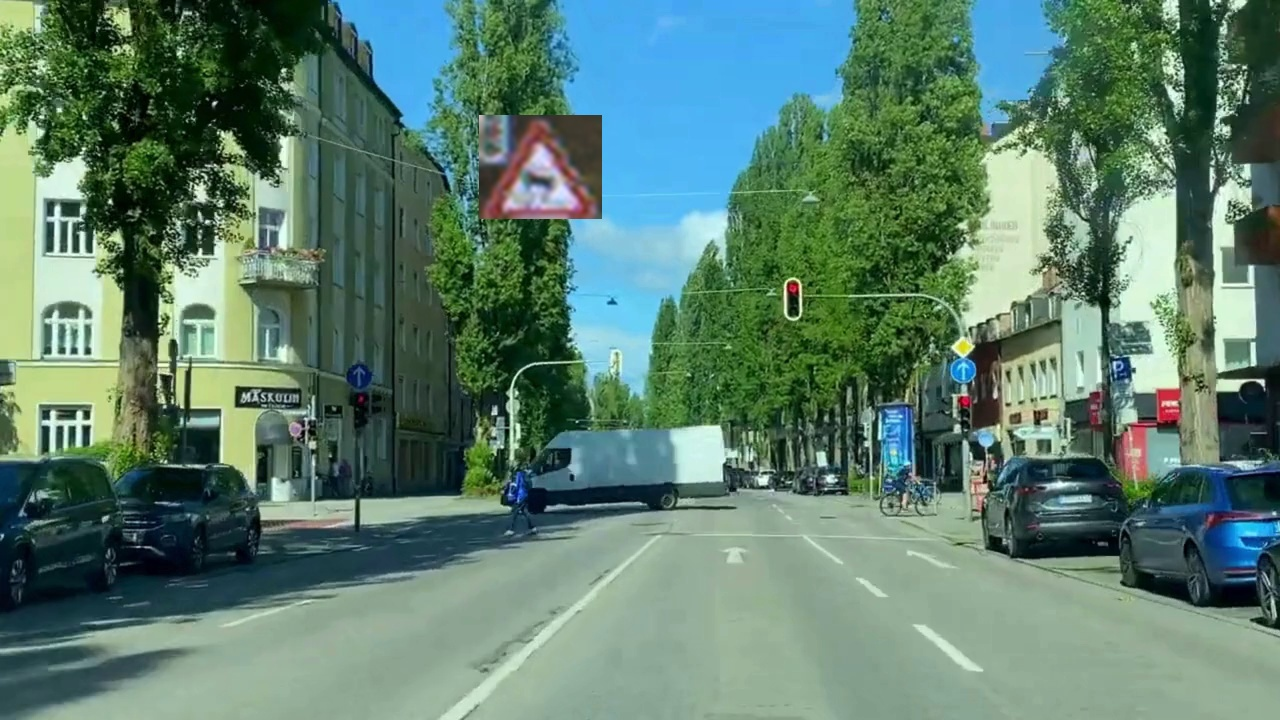Slippery: (479, 115, 602, 219)
